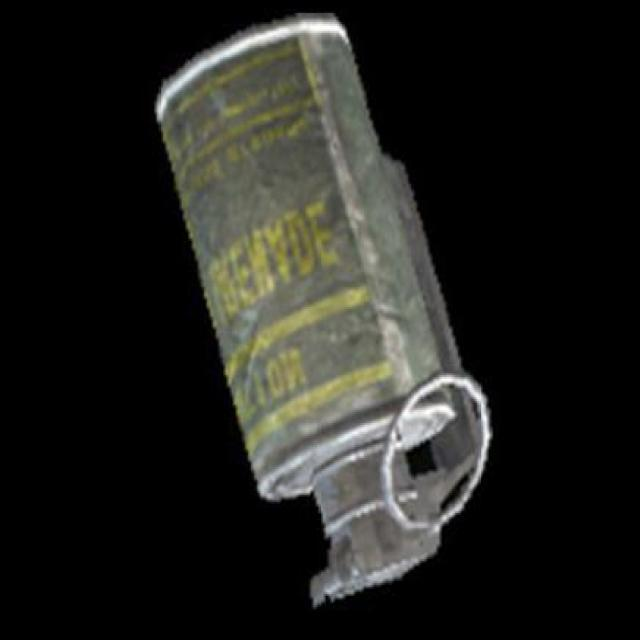grenade: (157, 16, 493, 606)
